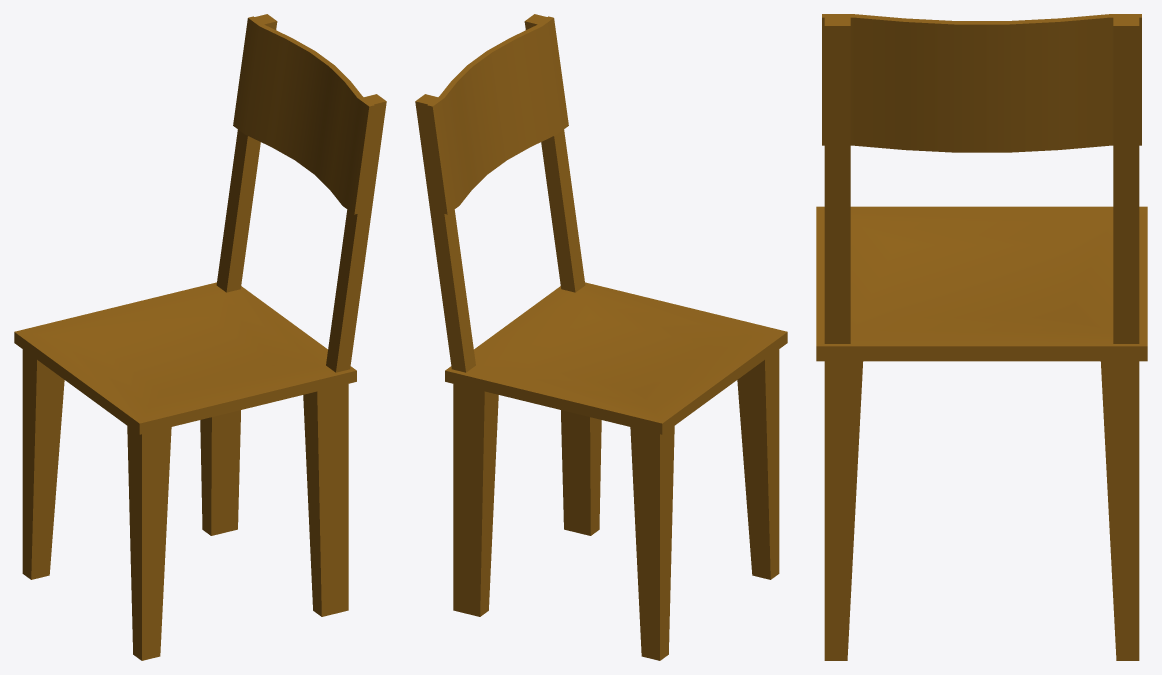
The model's file is Chair.fbx.
3 renders of one model, left to right at view 1: azimuth 30°, elevation 25°; view 2: azimuth 150°, elevation 25°; view 3: azimuth 270°, elevation 25°, orthographic. The views are drawn at different scales.
Visible parts, largest first — view 1: Polygon, Plane_1, Plane_2, Plane; view 2: Polygon, Plane_1, Plane_2, Plane; view 3: Polygon, Plane_2, Plane_1, Plane.
Part boxes in pixels (bbox=[...]): Polygon: bbox=[14, 282, 356, 434]; Plane_1: bbox=[22, 349, 348, 660]; Plane_2: bbox=[233, 16, 374, 214]; Plane: bbox=[216, 14, 386, 372]; Polygon: bbox=[445, 282, 787, 434]; Plane_1: bbox=[453, 349, 779, 660]; Plane_2: bbox=[427, 16, 568, 214]; Plane: bbox=[415, 14, 585, 372]; Polygon: bbox=[816, 206, 1147, 361]; Plane_2: bbox=[822, 14, 1141, 152]; Plane_1: bbox=[824, 361, 1139, 660]; Plane: bbox=[824, 16, 1139, 343].
Size of the model in its own units: 54.46 by 104 by 47.29.
